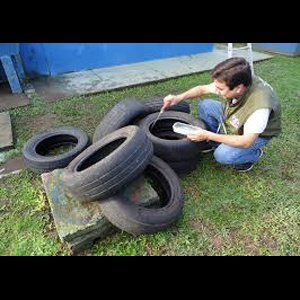tire: (91, 151, 183, 235), (63, 124, 153, 204), (136, 110, 207, 163), (23, 125, 91, 177), (91, 97, 146, 155)
